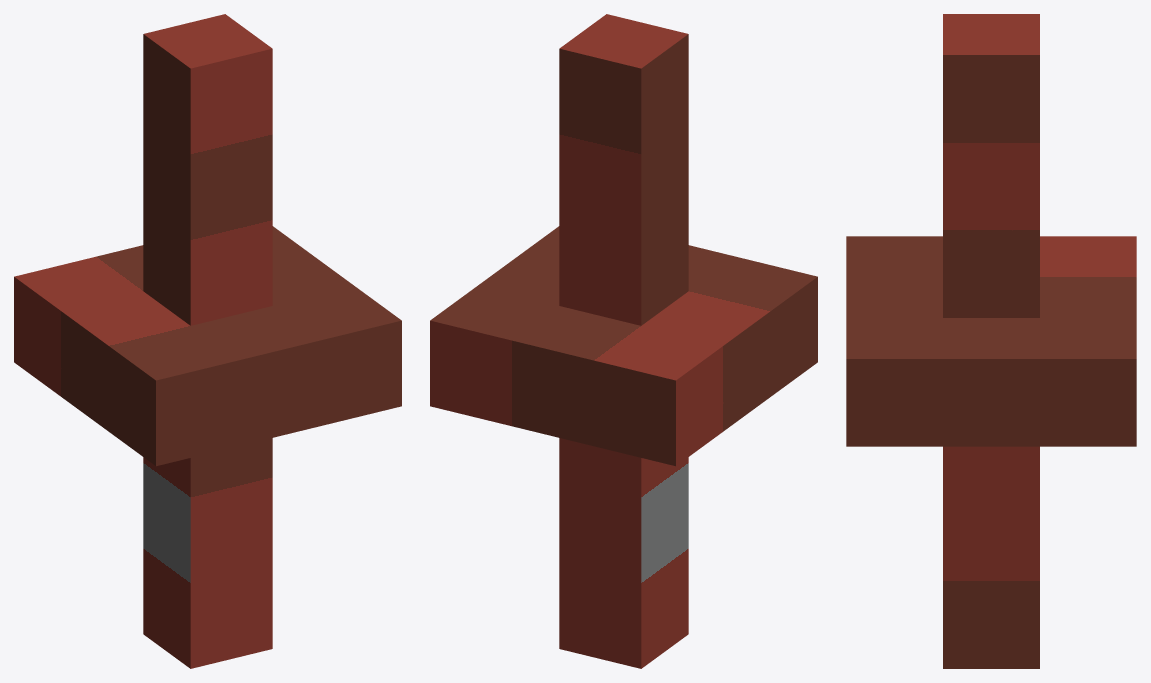
The model's file is clutter3.fbx.
The picture shows the model from 3 angles, left to right: view 1: azimuth 30°, elevation 25°; view 2: azimuth 150°, elevation 25°; view 3: azimuth 270°, elevation 25°; orthographic projection. The views are drawn at different scales.
Parts seen in each view (by area): view 1: cube_1, cube; view 2: cube_1, cube; view 3: cube, cube_1.
Boxes of the visible parts, box(x1,y1,x2,y2) form: cube_1: box(143, 14, 272, 668); cube: box(14, 226, 401, 466); cube_1: box(559, 14, 688, 668); cube: box(430, 226, 817, 466); cube: box(846, 236, 1136, 446); cube_1: box(943, 14, 1039, 668).
Bounding box in the file's own units: 18.75 × 43.75 × 18.75.
Materials: 1 (1 with a texture image).
